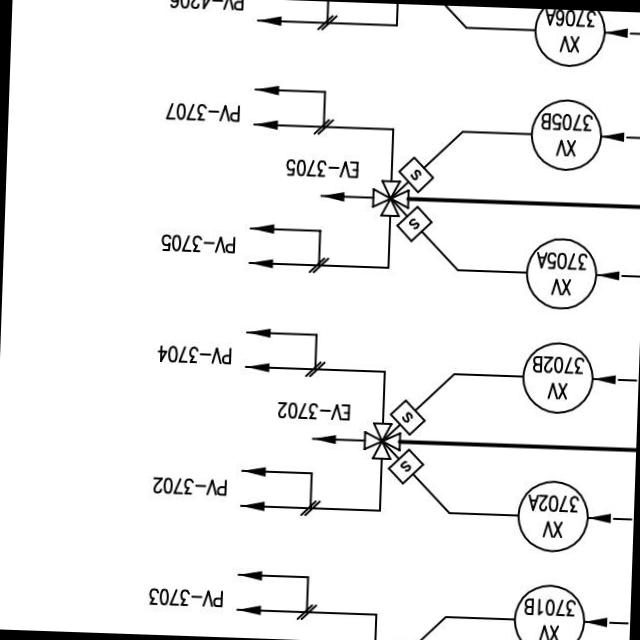4W: (366, 174, 412, 222), (356, 417, 404, 461)
